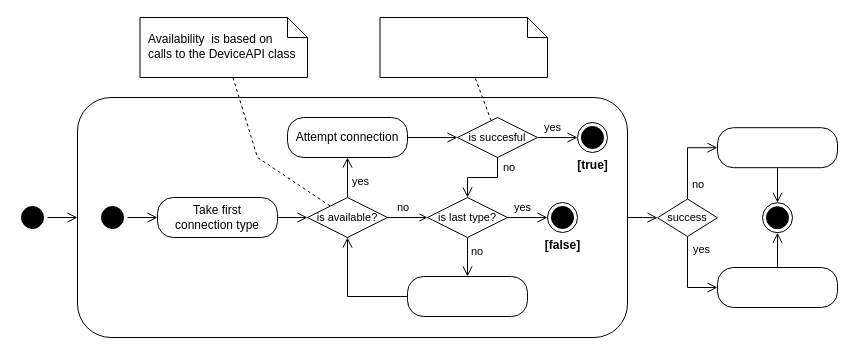
Image size: 855x355. Some labels were removed from this diagram. Here are the shapes that lost their labels. From the top down, the box of each, then its label:
(379, 16, 548, 78): Connection success is based on calls to the ConnectionAPI class
(716, 127, 838, 168): Throw RuntimeException
(406, 276, 528, 316): Take next connection type
(716, 266, 838, 308): Set local variable
